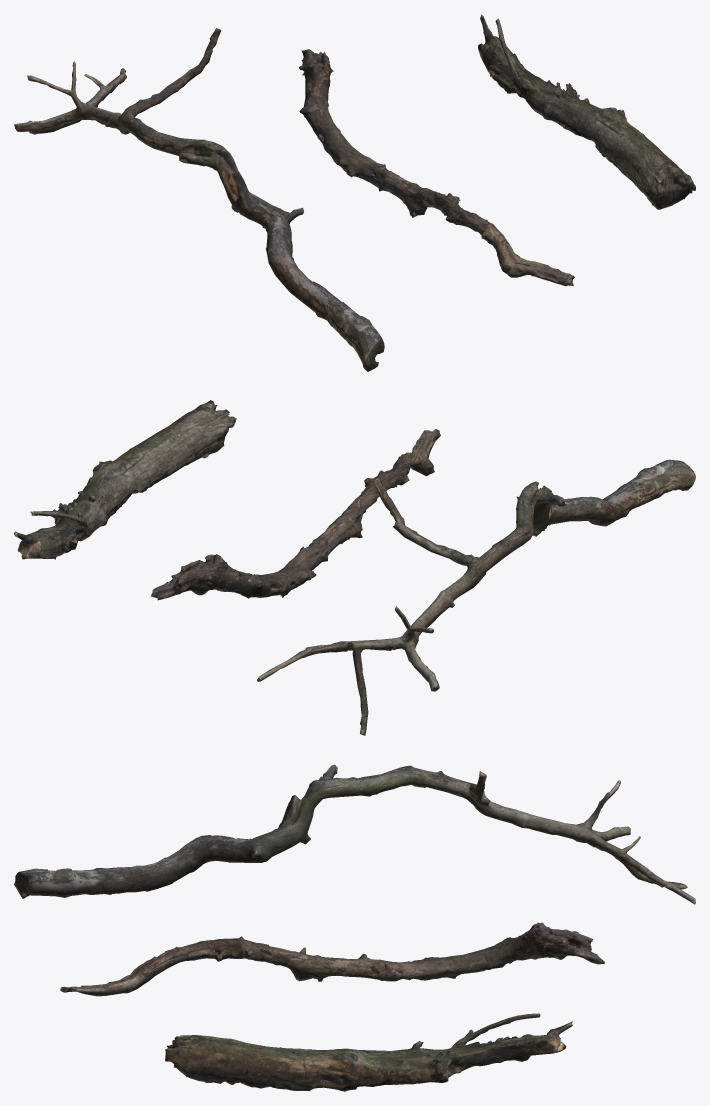
File: dry_branches_medium_01_1k.gltf
3 renders of one model, top to bottom at view 1: azimuth 30°, elevation 25°; view 2: azimuth 150°, elevation 25°; view 3: azimuth 270°, elevation 25°, orthographic. The views are drawn at different scales.
Parts seen in each view (by area): view 1: dry_branches_medium_01_a, dry_branches_medium_01_c, dry_branches_medium_01_b; view 2: dry_branches_medium_01_a, dry_branches_medium_01_c, dry_branches_medium_01_b; view 3: dry_branches_medium_01_a, dry_branches_medium_01_c, dry_branches_medium_01_b.
Boxes of the visible parts, x1,y1,x2,y2 form: dry_branches_medium_01_a: (14, 28, 384, 371); dry_branches_medium_01_c: (478, 14, 695, 209); dry_branches_medium_01_b: (299, 49, 574, 286); dry_branches_medium_01_a: (257, 459, 695, 735); dry_branches_medium_01_c: (14, 400, 236, 559); dry_branches_medium_01_b: (150, 429, 440, 600); dry_branches_medium_01_a: (14, 764, 695, 904); dry_branches_medium_01_c: (165, 1013, 572, 1091); dry_branches_medium_01_b: (60, 922, 604, 996).
Size of the model in its own units: 1.06 by 0.341 by 1.3.
1 material, 1 textured.
